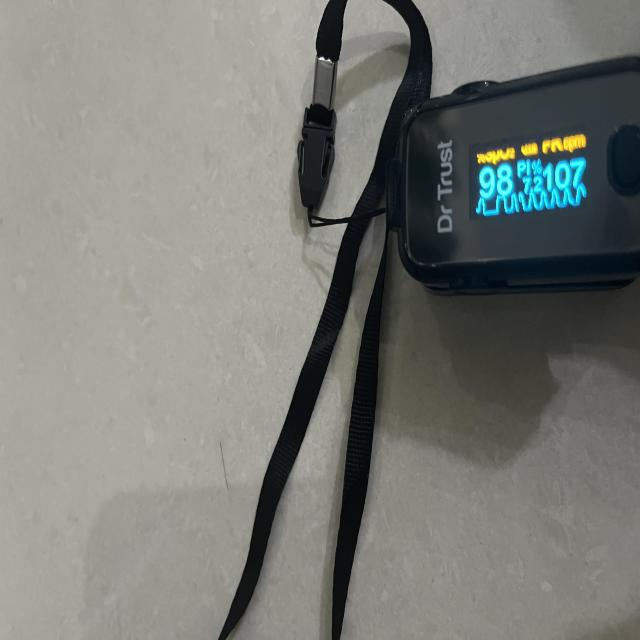spo2: (396, 55, 640, 296)
